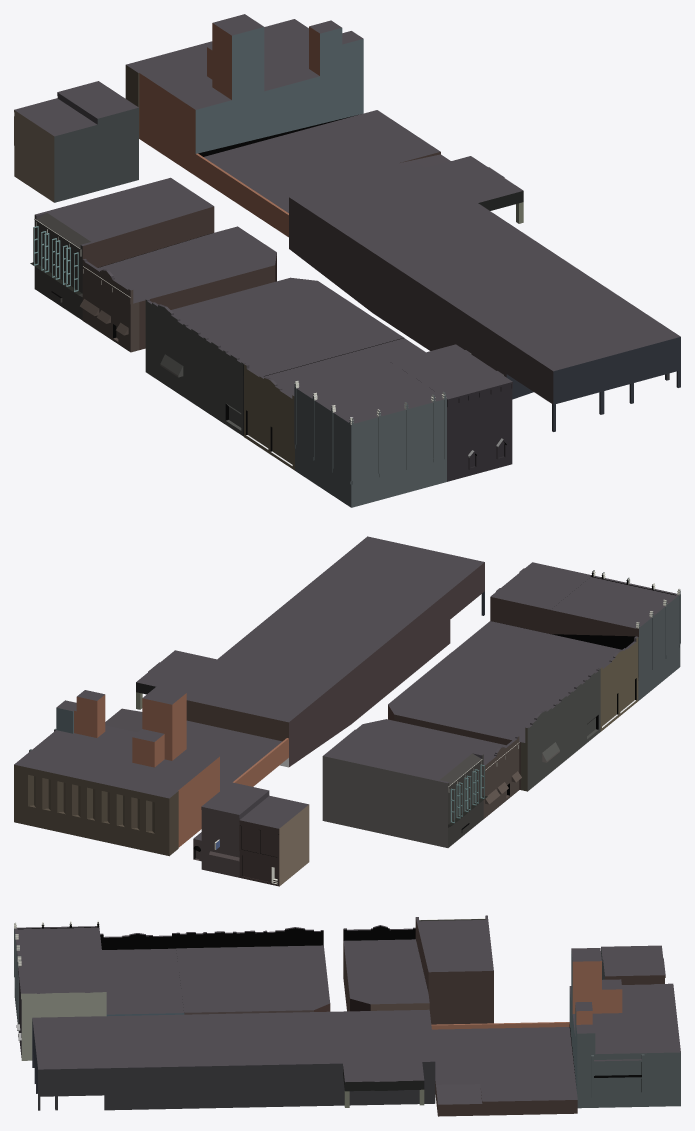
The model's file is 700-cherry-street-block.glb.
3 renders of one model, top to bottom at view 1: azimuth 30°, elevation 25°; view 2: azimuth 150°, elevation 25°; view 3: azimuth 270°, elevation 25°, orthographic. The views are drawn at different scales.
Parts seen in each view (by area): view 1: LOD0; view 2: LOD0; view 3: LOD0.
Part boxes in pixels (x1,y1,x2,y2): LOD0: [14, 14, 680, 507]; LOD0: [14, 536, 680, 886]; LOD0: [14, 915, 680, 1116].
Size of what is drawn, in the model's own units: 76.57 by 29.78 by 133.
2 materials, 2 textured.
